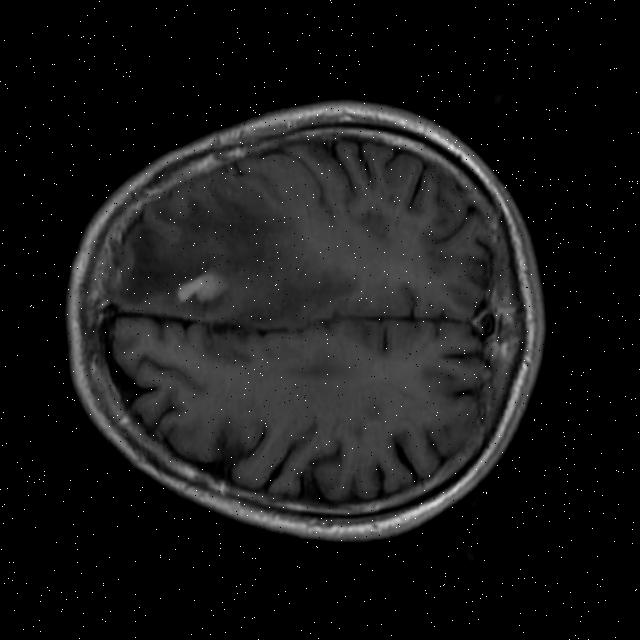Glioma: (173, 264, 233, 307)
